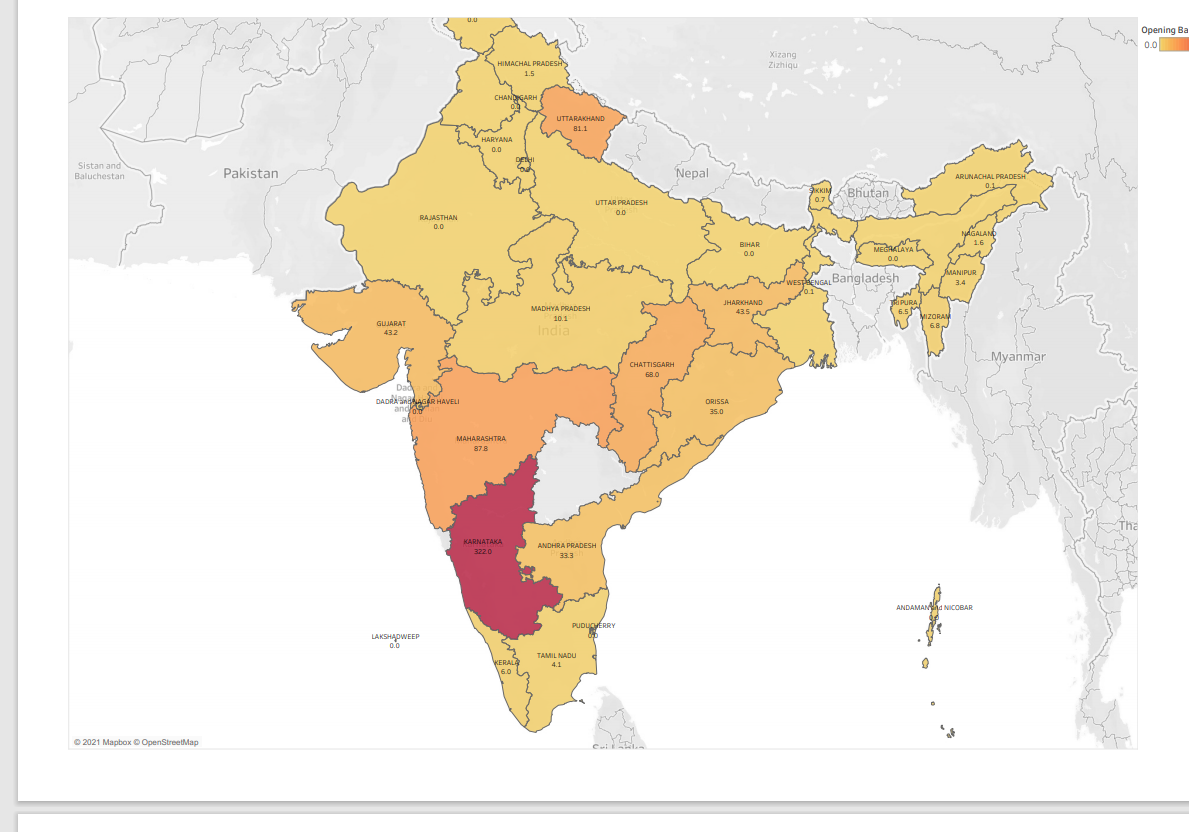

What the dashboard file says about the page in this screenshot:
{"tool":"tableau","page":{"name":"Dashboard 4","canvas":[1654,1169],"ordinal":3},"visuals":[{"type":"worksheet","title":"Sheet 4","mark":"Automatic","rows":["State Name"],"cols":["Calculation_405886950790320128"],"box":[97.6,40.9,1176,1062.3]}]}

Visuals, with their boxes in screenshot pixels (x1, y1, x2, y2), scaled from the page's 1654x1169 canvas onto the 1189x832 screenshot:
"Sheet 4" worksheet: [70, 29, 916, 785]
